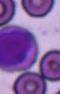M: (0, 26, 38, 72)
